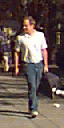person: (14, 15, 52, 117)
